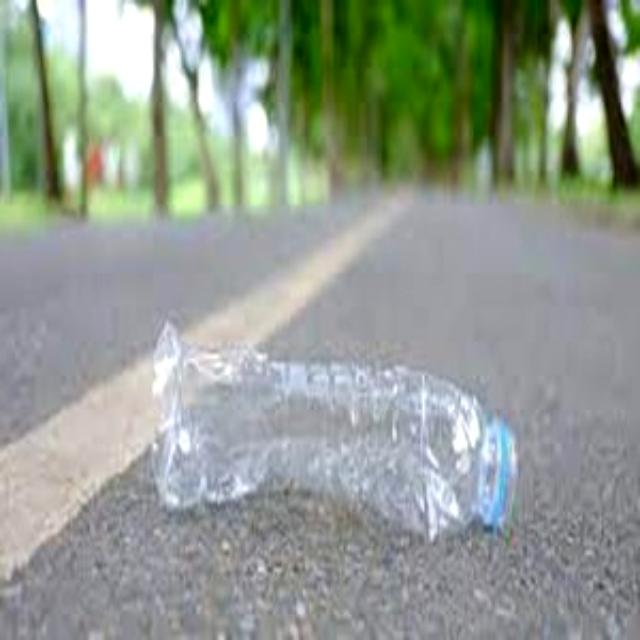Plastic: (150, 312, 520, 544)
